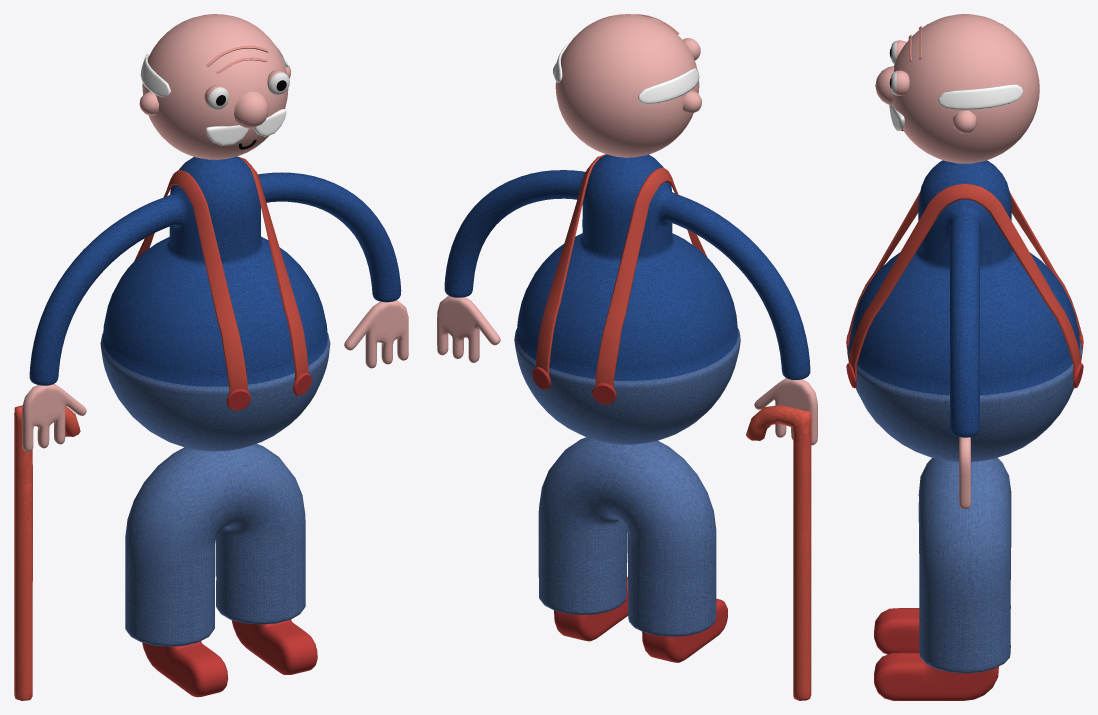
Rendered from NonnoAgenore_004.glb.
The picture shows the model from 3 angles, left to right: view 1: azimuth 30°, elevation 25°; view 2: azimuth 150°, elevation 25°; view 3: azimuth 270°, elevation 25°; orthographic projection. The views are drawn at different scales.
Parts seen in each view (by area): view 1: Retopo_torso.007_Baked, Retopo_legs.004_Baked, Head.005, Plane.006_Baked, Retopo_foot_dx.005_Baked, Retopo_hand_dx.004, Retopo_stick.004_Baked, Retopo_mustaches.004_Baked, nose.003, eyes.003_Baked, Retopo_buttons.001_Baked, Retopo_hairs.003_Baked; view 2: Retopo_torso.007_Baked, Retopo_legs.004_Baked, Head.005, Retopo_stick.004_Baked, Plane.006_Baked, Retopo_hand_dx.004, Retopo_foot_dx.005_Baked, Retopo_hairs.003_Baked, Retopo_buttons.001_Baked; view 3: Retopo_torso.007_Baked, Retopo_legs.004_Baked, Head.005, Plane.006_Baked, Retopo_foot_dx.005_Baked, Retopo_hairs.003_Baked, Retopo_hand_dx.004, eyes.003_Baked, nose.003, Retopo_hears.003, Retopo_buttons.001_Baked.
Part boxes in pixels (<box>): Retopo_torso.007_Baked: <box>29,156,401,451</box>; Retopo_legs.004_Baked: <box>125,443,305,646</box>; Head.005: <box>142,14,288,159</box>; Plane.006_Baked: <box>134,156,308,393</box>; Retopo_foot_dx.005_Baked: <box>142,619,317,697</box>; Retopo_hand_dx.004: <box>22,300,408,451</box>; Retopo_stick.004_Baked: <box>14,405,80,700</box>; Retopo_mustaches.004_Baked: <box>205,109,286,145</box>; nose.003: <box>234,91,268,128</box>; eyes.003_Baked: <box>204,70,289,109</box>; Retopo_buttons.001_Baked: <box>226,372,311,410</box>; Retopo_hairs.003_Baked: <box>140,43,288,97</box>; Retopo_torso.007_Baked: <box>444,154,810,444</box>; Retopo_legs.004_Baked: <box>538,437,716,636</box>; Head.005: <box>555,14,699,157</box>; Retopo_stick.004_Baked: <box>746,405,811,700</box>; Plane.006_Baked: <box>535,154,707,387</box>; Retopo_hand_dx.004: <box>437,295,817,445</box>; Retopo_foot_dx.005_Baked: <box>554,576,727,662</box>; Retopo_hairs.003_Baked: <box>554,43,699,104</box>; Retopo_buttons.001_Baked: <box>532,367,616,404</box>; Retopo_torso.007_Baked: <box>847,160,1082,461</box>; Retopo_legs.004_Baked: <box>918,457,1011,673</box>; Head.005: <box>892,14,1039,163</box>; Plane.006_Baked: <box>848,183,1081,378</box>; Retopo_foot_dx.005_Baked: <box>874,608,998,700</box>; Retopo_hairs.003_Baked: <box>938,84,1023,109</box>; Retopo_hand_dx.004: <box>959,437,970,509</box>; eyes.003_Baked: <box>889,40,909,95</box>; nose.003: <box>875,66,894,104</box>; Retopo_hears.003: <box>953,110,977,133</box>; Retopo_buttons.001_Baked: <box>846,333,1083,388</box>.
Size of the model in its own units: 2.83 by 4.48 by 1.48.
Materials: 5 (1 with a texture image).
